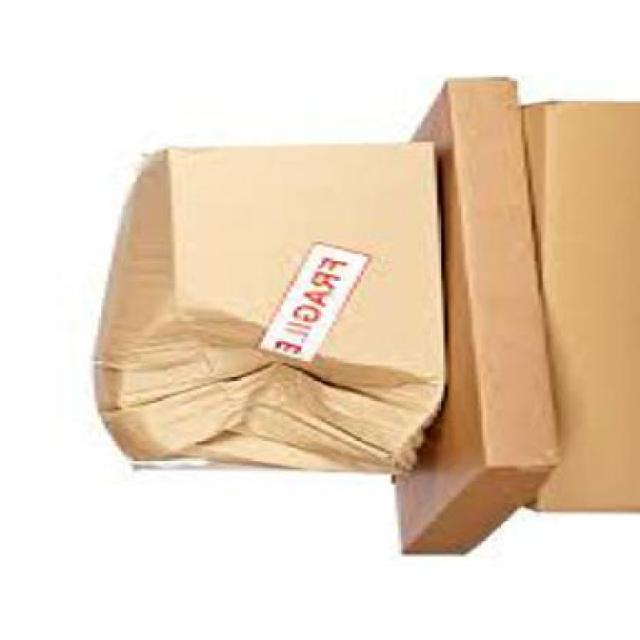defect: (86, 134, 442, 477)
